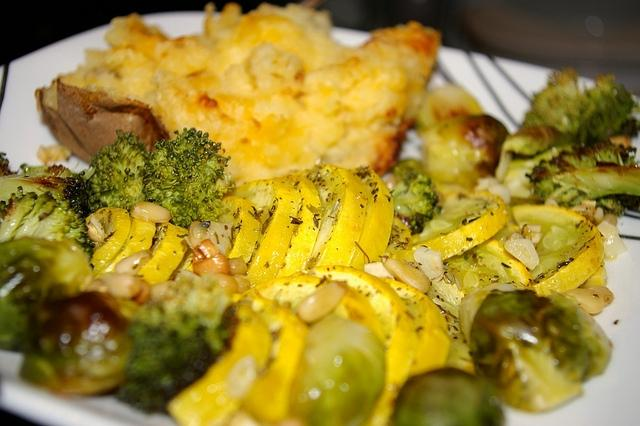broccoli: (518, 67, 638, 148), (142, 128, 236, 226), (0, 186, 96, 271), (120, 320, 208, 410), (523, 145, 640, 211), (88, 130, 148, 212), (391, 159, 444, 236)
brussels sprouts: (470, 288, 613, 413), (20, 290, 134, 395), (0, 237, 93, 352), (289, 315, 385, 426), (390, 367, 504, 426), (496, 125, 577, 206), (426, 114, 511, 189), (416, 84, 484, 140)
